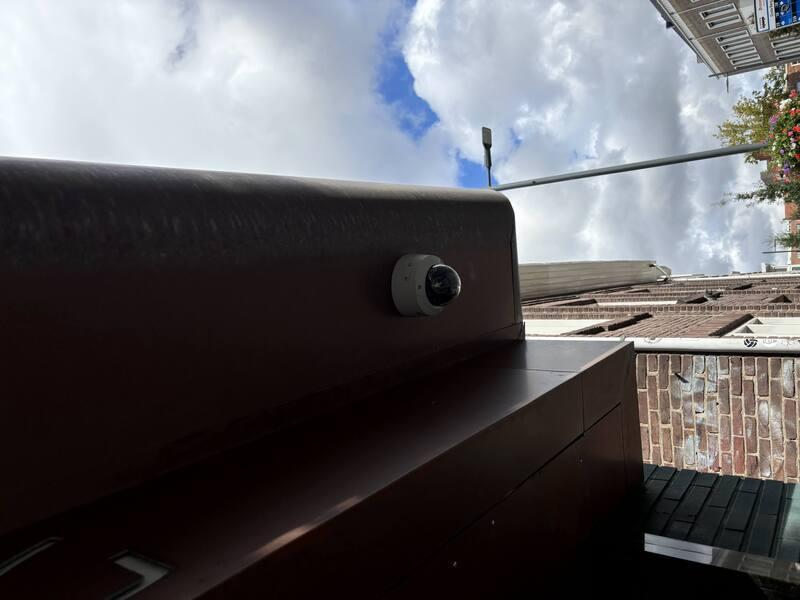dome: (273, 383, 357, 467)
